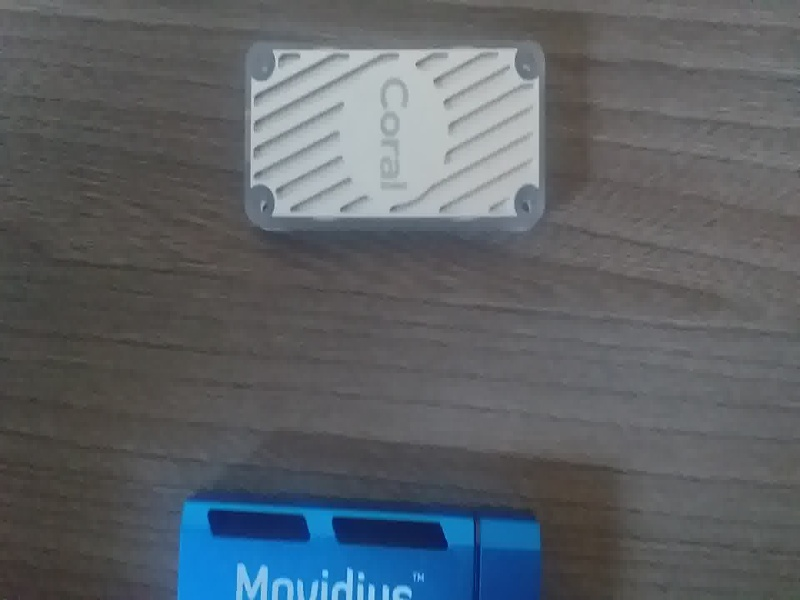coral: (233, 30, 565, 253)
movidius: (169, 482, 552, 600)
